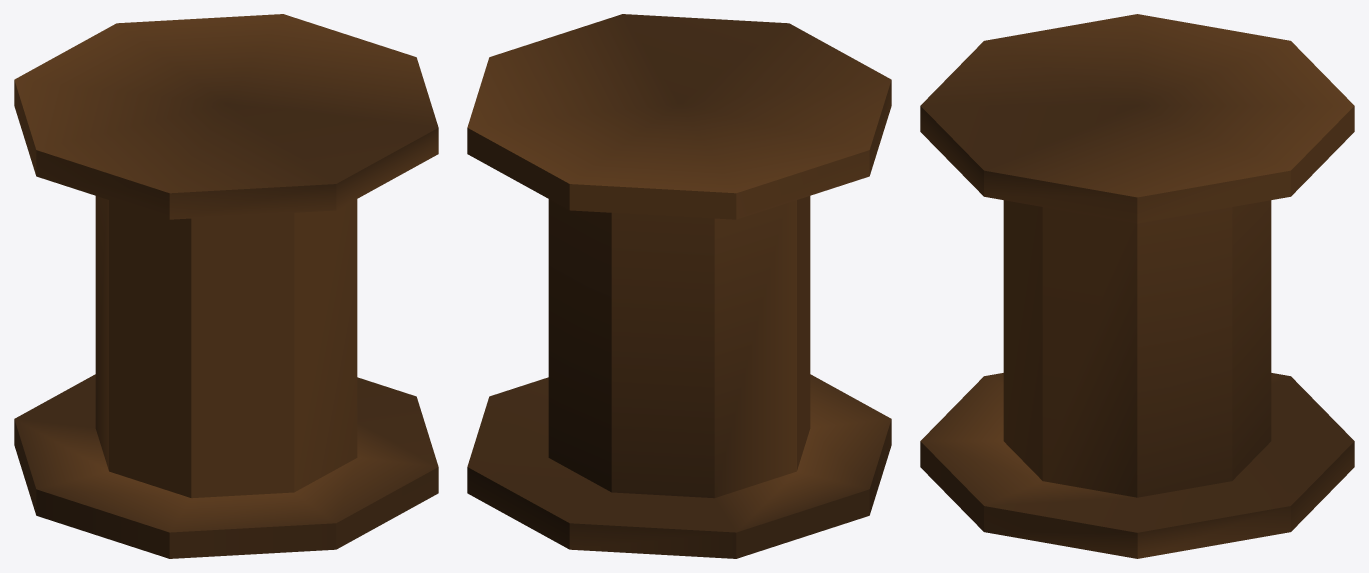
File: SM_constructionprop.FBX
3 renders of one model, left to right at view 1: azimuth 30°, elevation 25°; view 2: azimuth 150°, elevation 25°; view 3: azimuth 270°, elevation 25°, orthographic.
Parts seen in each view (by area): view 1: Cylinder001; view 2: Cylinder001; view 3: Cylinder001.
Boxes of the visible parts, bbox=[...] form: Cylinder001: bbox=[14, 14, 438, 558]; Cylinder001: bbox=[467, 14, 891, 558]; Cylinder001: bbox=[920, 14, 1354, 558].
Size of the model in its own units: 209 by 192 by 209.
